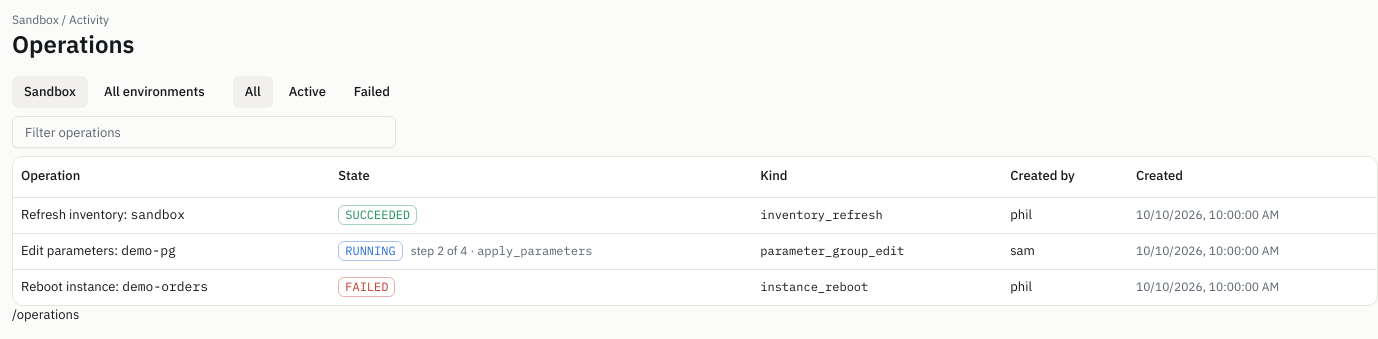
Test case: OperationsPage › narrows the rows with the filter box
The image size is (1378, 339).
Expected: the link "Refresh inventory: sandbox" is shown, [21,206,185,223]
Type "reboot" into the field labelled "Filter operations".
click(204, 132); type("reboot")  # box [12,116,396,148]
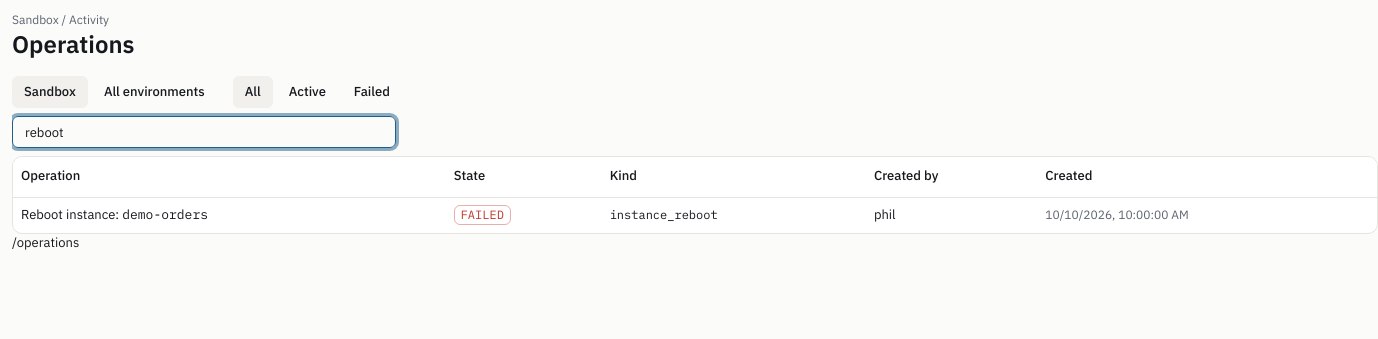
Expected: the link "Reboot instance: demo-orders" is shown, [21,206,208,223]
Result: the link "Refresh inventory: sandbox" is gone
